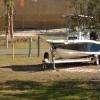Boat: (38, 31, 100, 77)
